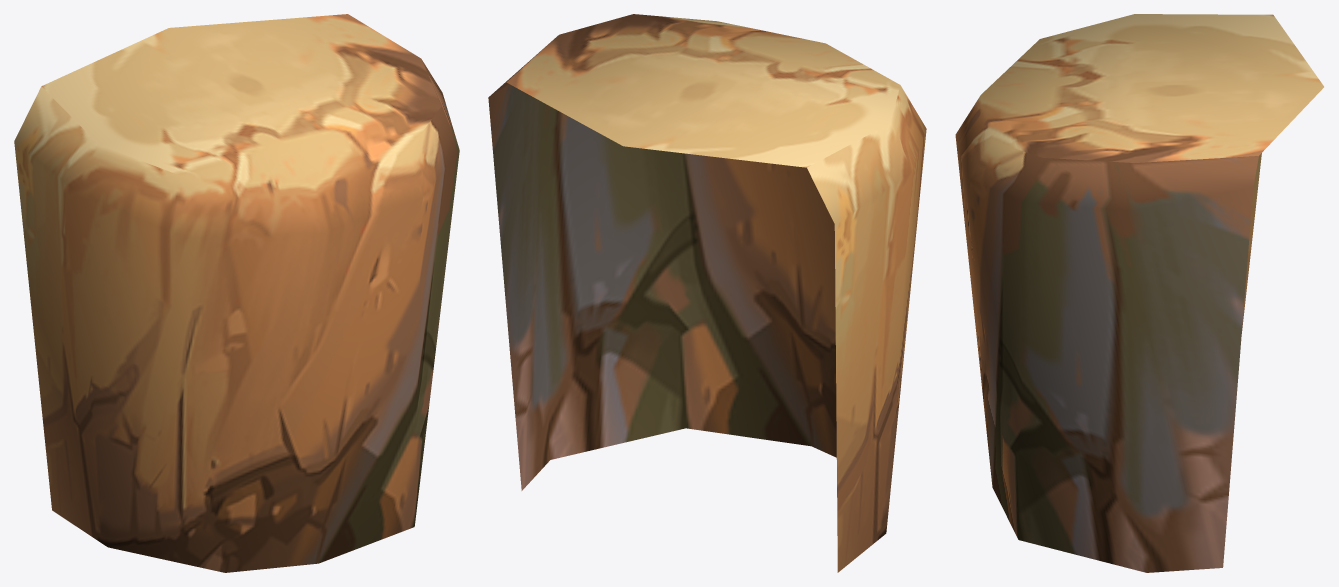
File: Chapter1Scene1Model38.FBX
3 renders of one model, left to right at view 1: azimuth 30°, elevation 25°; view 2: azimuth 150°, elevation 25°; view 3: azimuth 270°, elevation 25°, orthographic. The views are drawn at different scales.
Visible parts, largest first — view 1: Chapter1Scene1Model38; view 2: Chapter1Scene1Model38; view 3: Chapter1Scene1Model38.
Boxes of the visible parts, <box> form: Chapter1Scene1Model38: <box>14,14,459,572</box>; Chapter1Scene1Model38: <box>488,14,926,572</box>; Chapter1Scene1Model38: <box>955,14,1323,572</box>.
Bounding box in the file's own units: 252 × 222 × 272.
